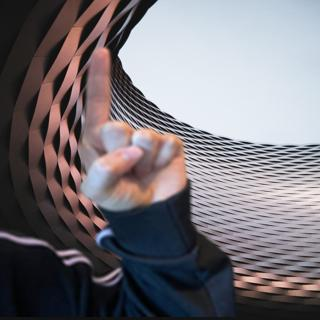IRRITATED: (75, 44, 190, 220)
